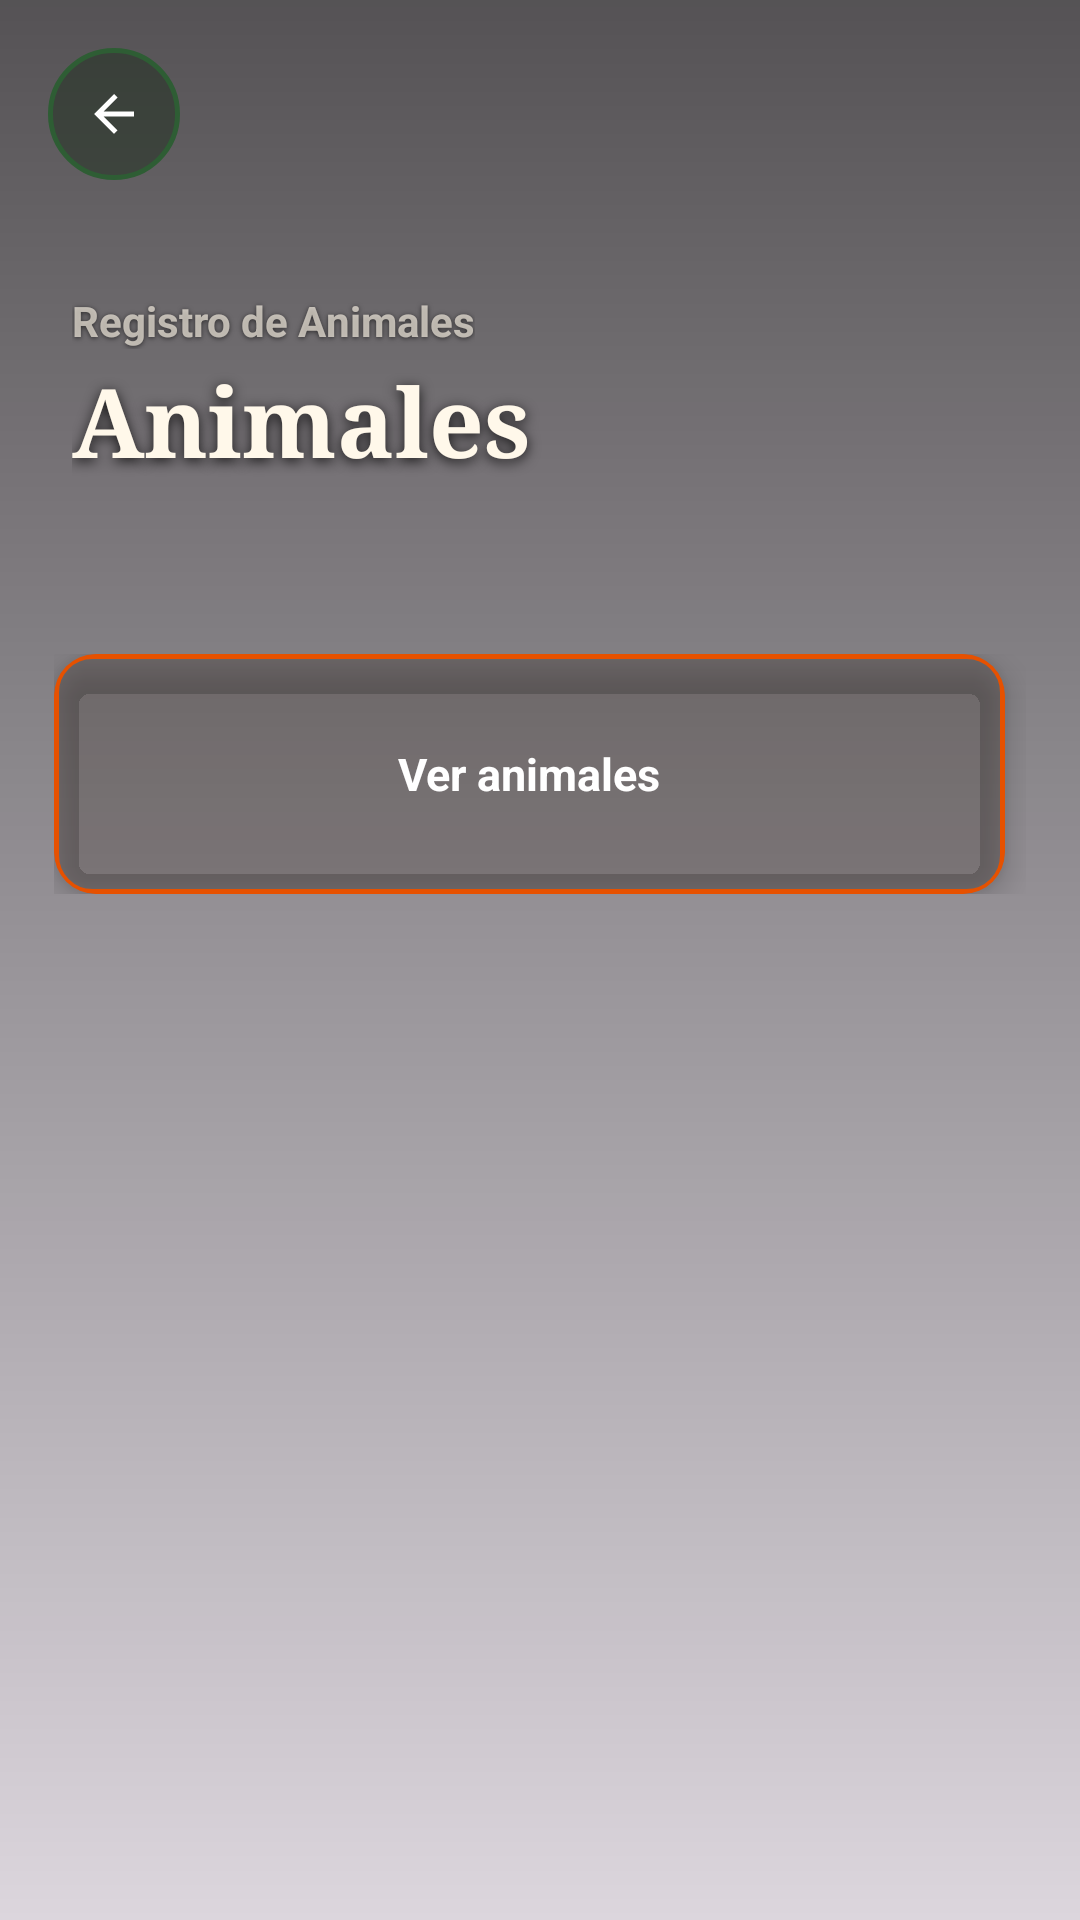

Point at icon controls on the screen. Image size 1080w x 1920h, points as point (x, y).
arrow back: point (114, 114)
